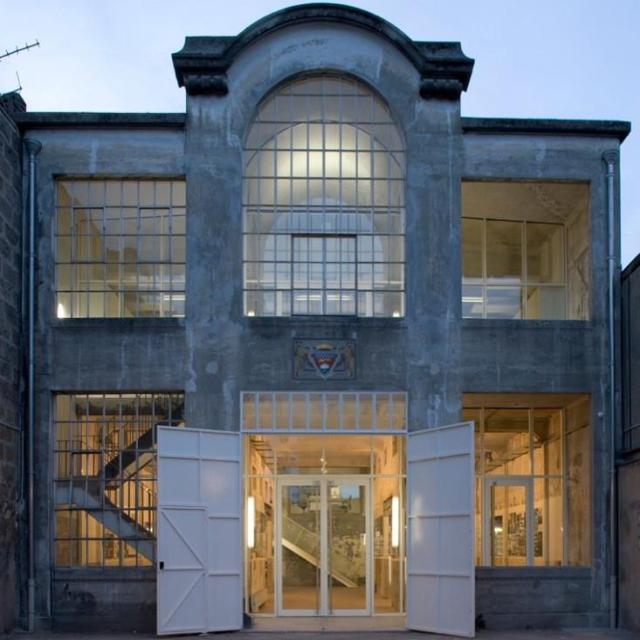door: (274, 474, 374, 616)
wall: (0, 0, 633, 635)
windows: (241, 74, 403, 318), (243, 394, 411, 616), (458, 384, 594, 570), (55, 396, 188, 564), (59, 177, 185, 320), (456, 218, 571, 315)
